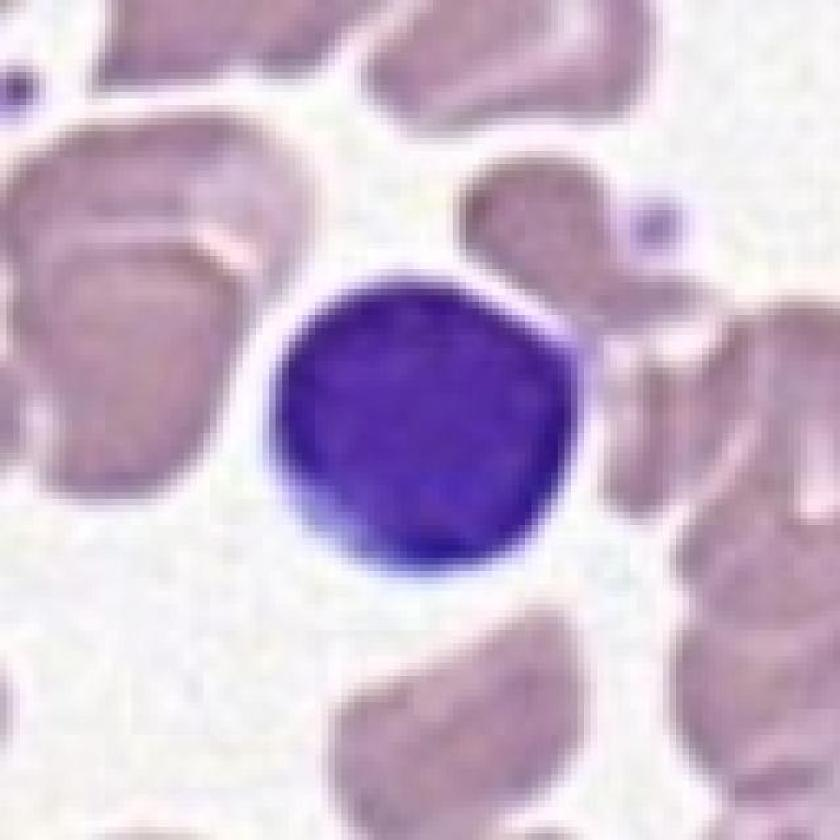lymphocyte: (260, 269, 589, 582)
